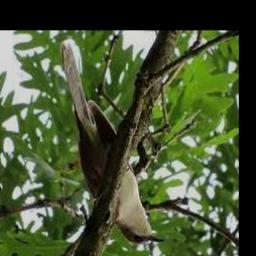Cuckoo: (59, 43, 164, 244)
